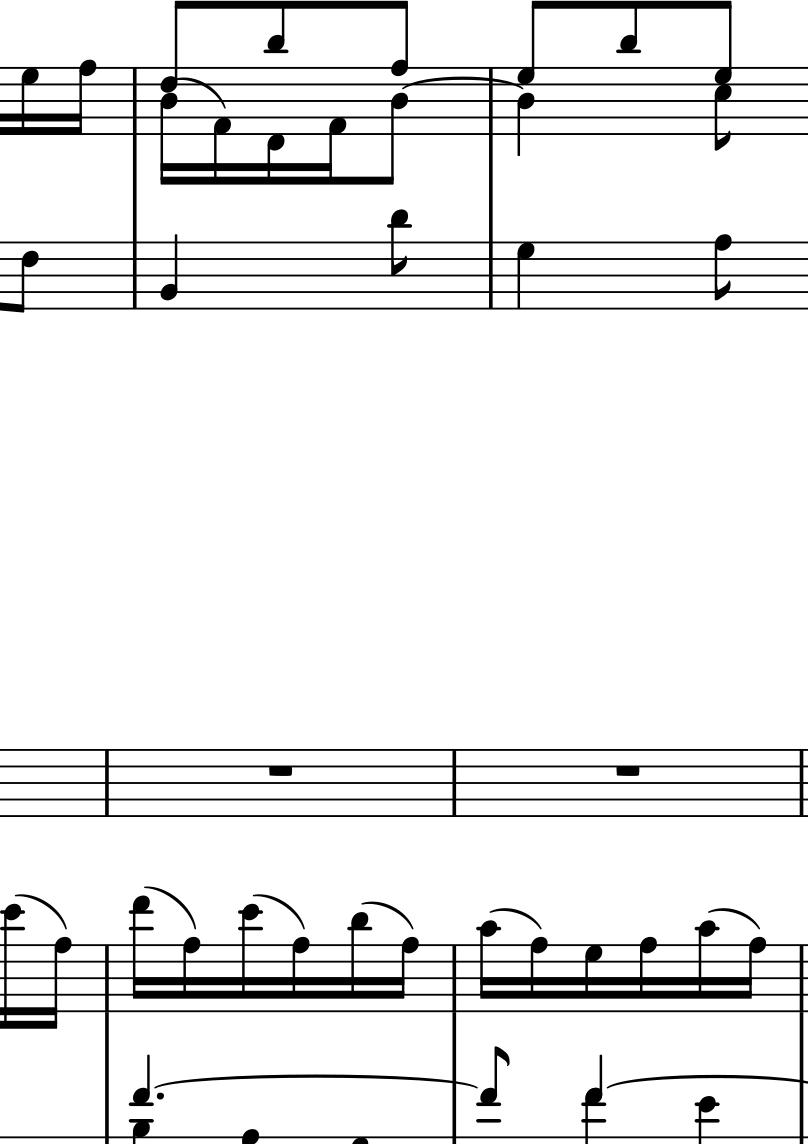16_-1: (266, 65, 288, 187)
16_1: (322, 64, 347, 186)
16_10: (476, 919, 503, 1016), (695, 919, 721, 1016)
16_11: (347, 911, 372, 1016)
16_12: (1, 902, 27, 1033), (239, 900, 264, 1018)
16_13: (129, 892, 154, 1018)
16_7: (18, 63, 41, 139), (581, 941, 604, 1017)
16_8: (42, 935, 73, 1031), (67, 59, 98, 138), (738, 935, 768, 1015), (391, 935, 420, 1015), (290, 935, 312, 1016), (180, 936, 202, 1016), (637, 936, 659, 1015), (528, 936, 549, 1015)
4_2: (159, 232, 181, 312)
4_7: (515, 241, 538, 311)
8_1: (211, 64, 232, 188)
8_11: (615, 1, 644, 137), (387, 207, 413, 314)
8_6: (13, 240, 40, 315)
8_8: (712, 233, 735, 312)
Rests1: (611, 761, 645, 780), (264, 761, 297, 780)
Single_barline: (481, 68, 503, 135), (97, 944, 117, 1013), (126, 67, 146, 135), (482, 241, 502, 308), (445, 945, 465, 1012), (126, 241, 145, 308), (99, 750, 116, 816), (446, 751, 463, 816), (792, 750, 808, 817), (792, 945, 808, 1012)
Slur: (402, 75, 519, 91), (181, 71, 228, 108), (152, 884, 191, 927), (20, 893, 64, 929), (263, 893, 304, 928), (367, 900, 408, 930), (494, 907, 540, 930), (713, 907, 759, 929)
dot: (153, 1088, 167, 1103)
